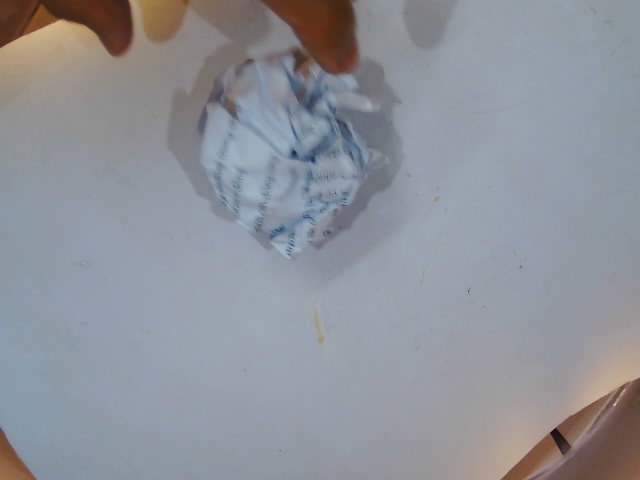paper: (184, 24, 406, 276)
